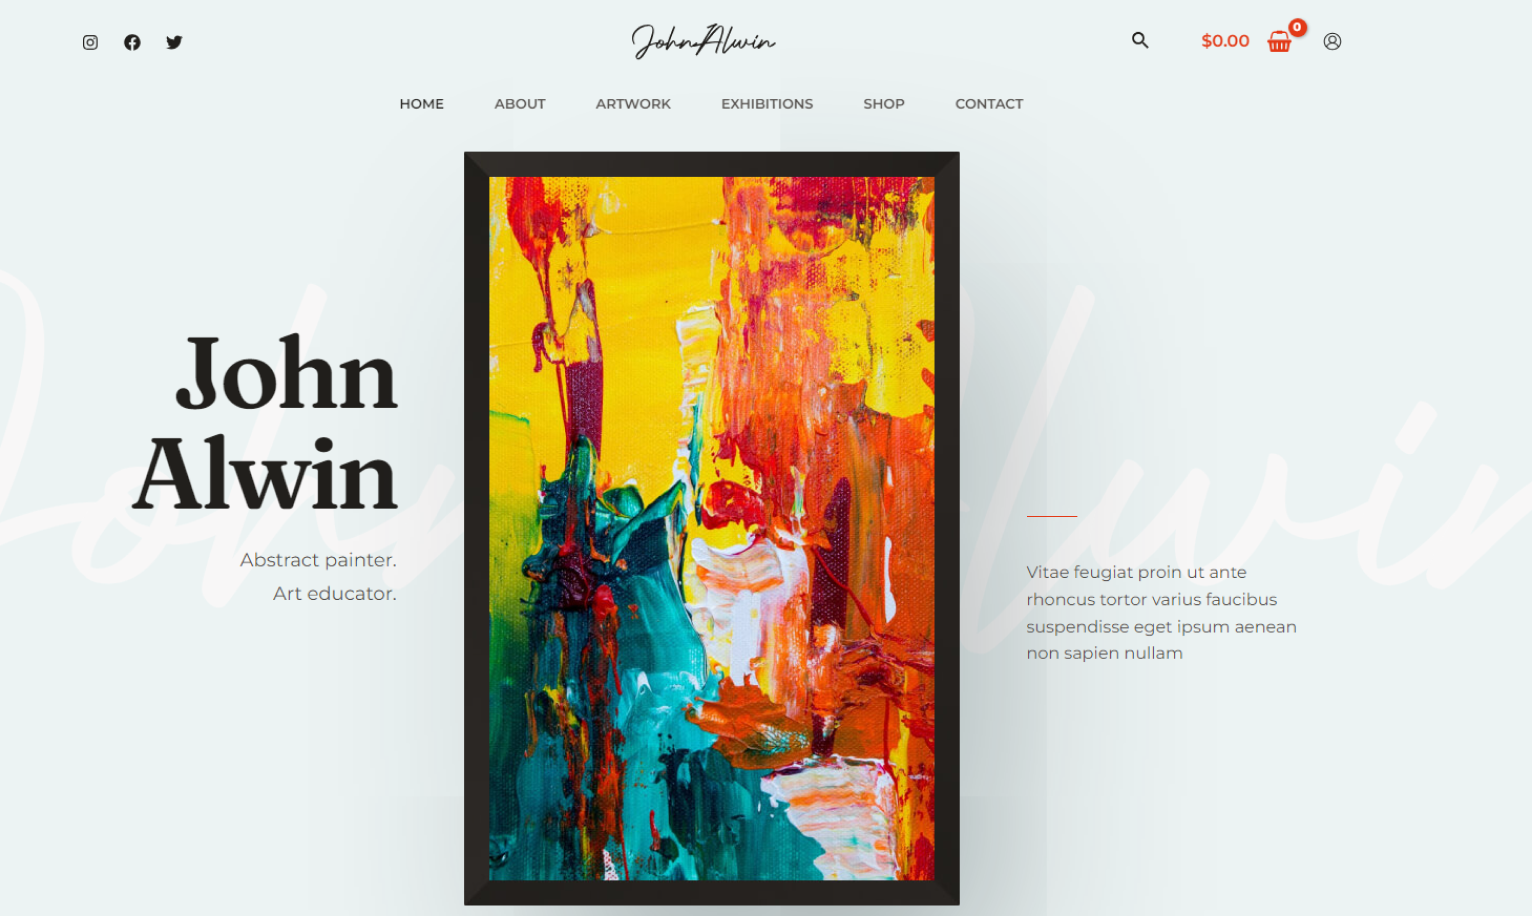menu: (26, 23, 1513, 154)
